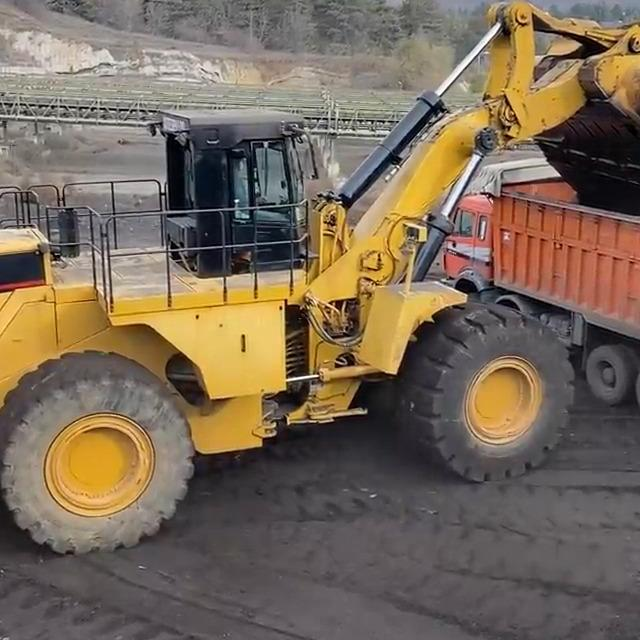NO-Safety Vest: (231, 169, 248, 204)
Person: (231, 160, 293, 238)
dump truck: (431, 154, 640, 434)
wheel loader: (0, 0, 640, 562)
